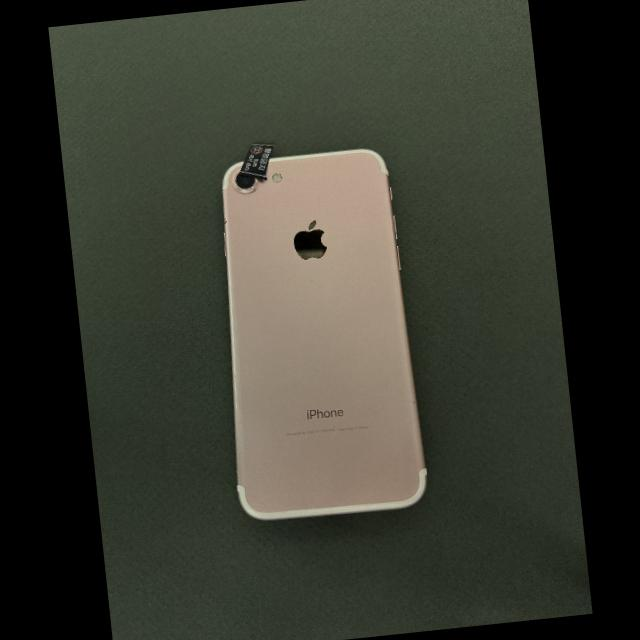lens: (236, 173, 256, 189)
phone: (222, 148, 427, 521)
sticker: (239, 142, 274, 179)
